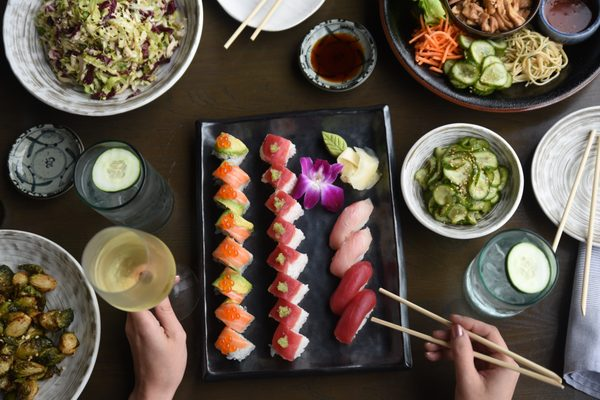salad: (250, 0, 283, 41)
sushi: (0, 0, 201, 115), (0, 228, 100, 397), (401, 121, 524, 239), (464, 229, 558, 318), (297, 16, 378, 92), (446, 0, 540, 38), (537, 0, 599, 44)
